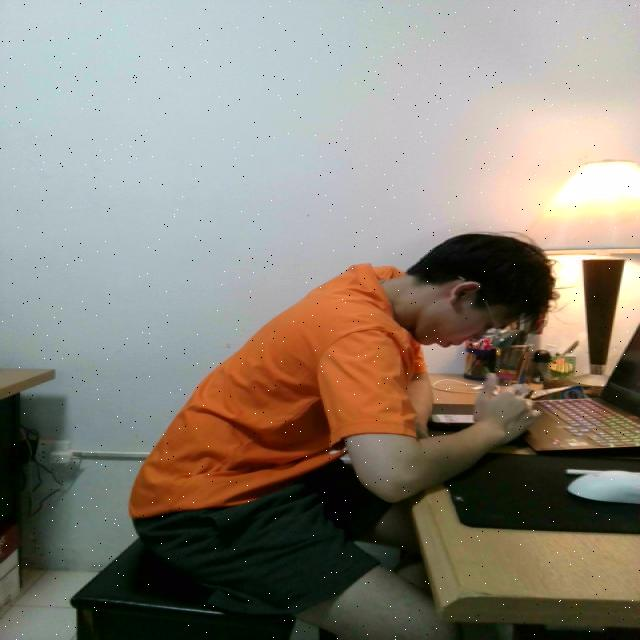Bad: (105, 210, 601, 604)
